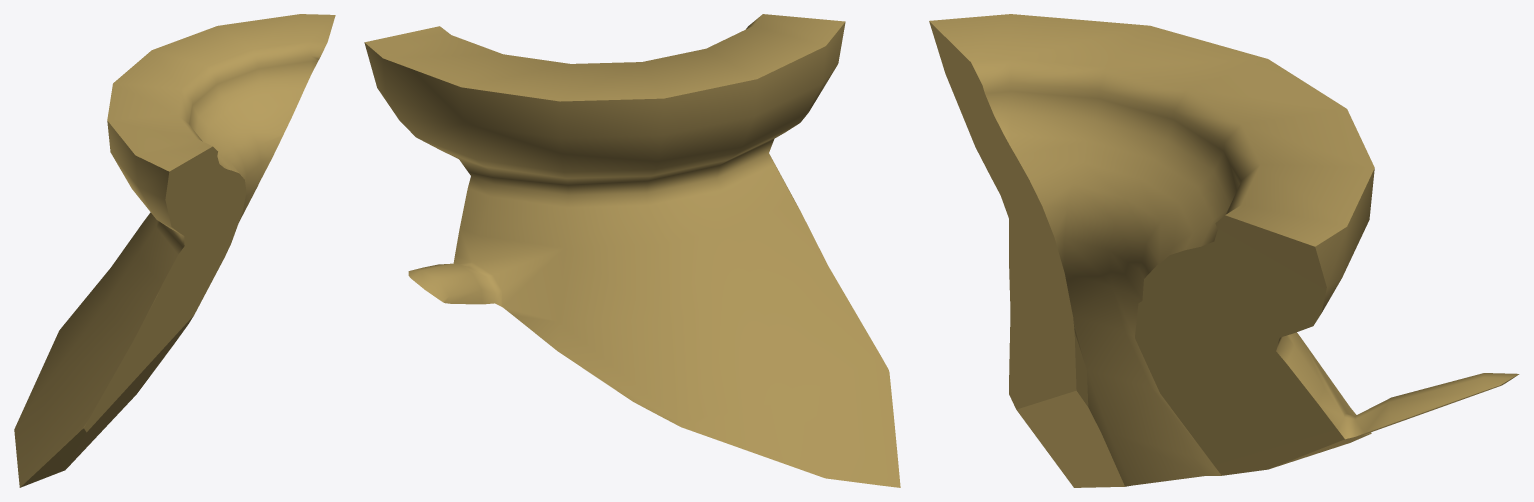
Rendered from broken_pot_cell.035.fbx.
3 views of the same model, side by side, from view 1: azimuth 30°, elevation 25°; view 2: azimuth 150°, elevation 25°; view 3: azimuth 270°, elevation 25° (orthographic). The views are drawn at different scales.
Visible parts, largest first — view 1: broken_pot_cell.035; view 2: broken_pot_cell.035; view 3: broken_pot_cell.035.
Part boxes in pixels (x1=…): broken_pot_cell.035: x1=14, y1=14, x2=335, y2=487; broken_pot_cell.035: x1=364, y1=14, x2=900, y2=487; broken_pot_cell.035: x1=929, y1=14, x2=1519, y2=487.
Size of the model in its own units: 1.08 by 0.8922 by 0.8979.
